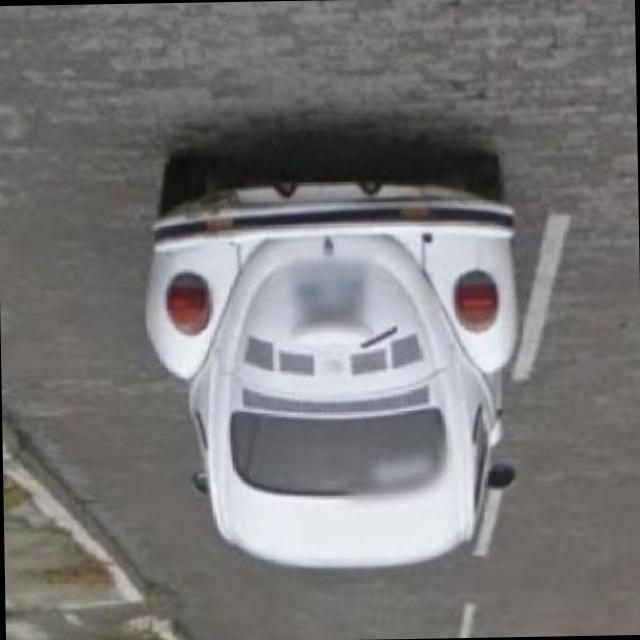car: (143, 157, 528, 578)
